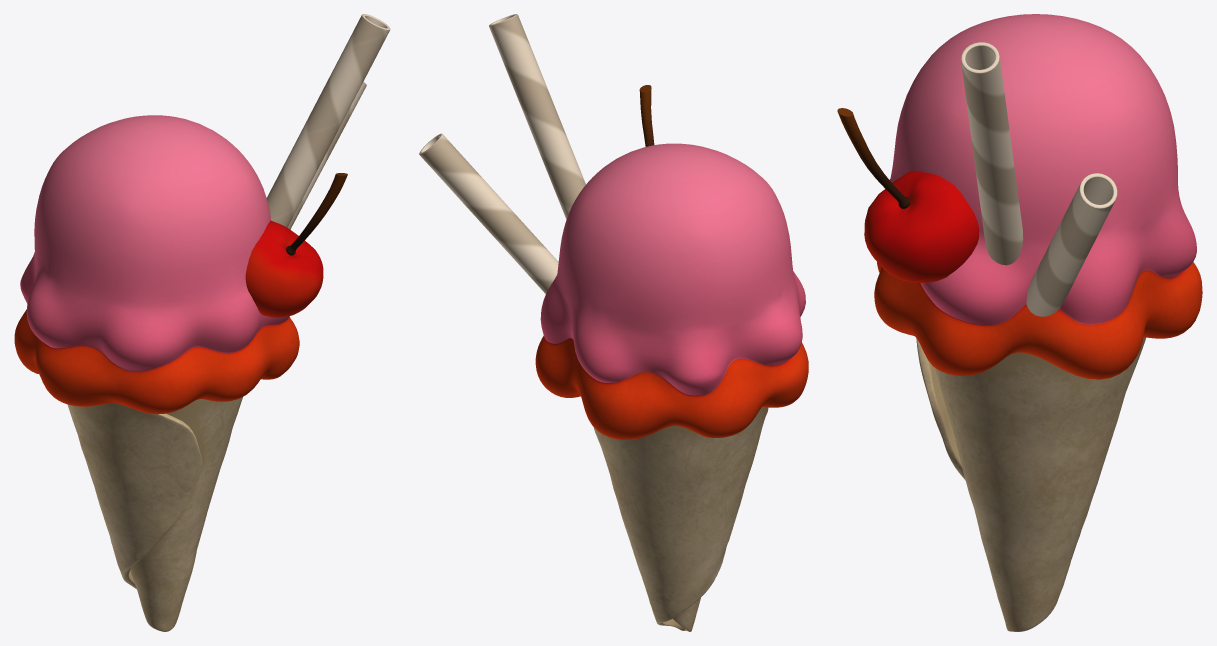
File: Project Name.gltf
3 views of the same model, side by side, from view 1: azimuth 30°, elevation 25°; view 2: azimuth 150°, elevation 25°; view 3: azimuth 270°, elevation 25° (orthographic). The views are drawn at different scales.
Parts seen in each view (by area): view 1: Cherry ice cream cornet; view 2: Cherry ice cream cornet; view 3: Cherry ice cream cornet.
Part boxes in pixels (x1,y1,x2,y2): Cherry ice cream cornet: [14, 14, 390, 631]; Cherry ice cream cornet: [419, 14, 808, 631]; Cherry ice cream cornet: [837, 14, 1202, 631].
Size of the model in its own units: 0.0933 by 0.1432 by 0.068.
1 material, 1 textured.
